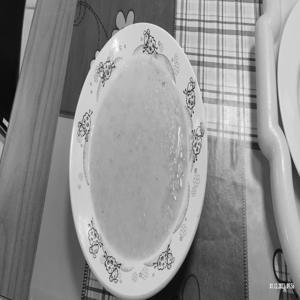porridge: (67, 55, 207, 263)
